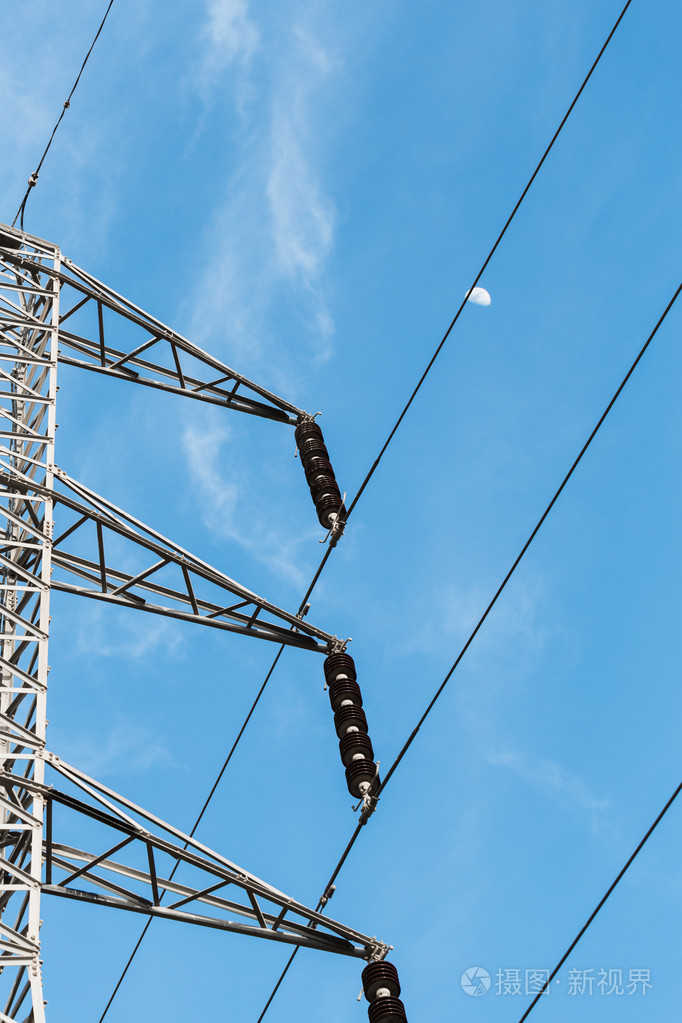insulator: (321, 656, 380, 798), (290, 416, 349, 531), (359, 962, 416, 1023)
